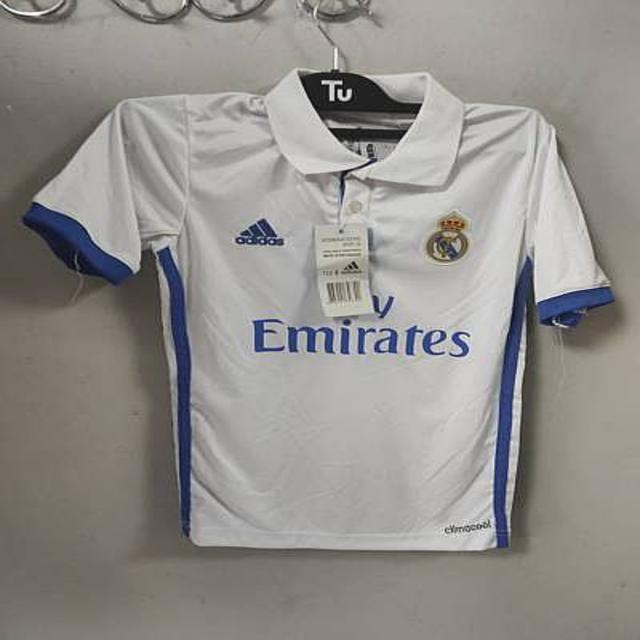T_SHIRT: (27, 62, 627, 565)
